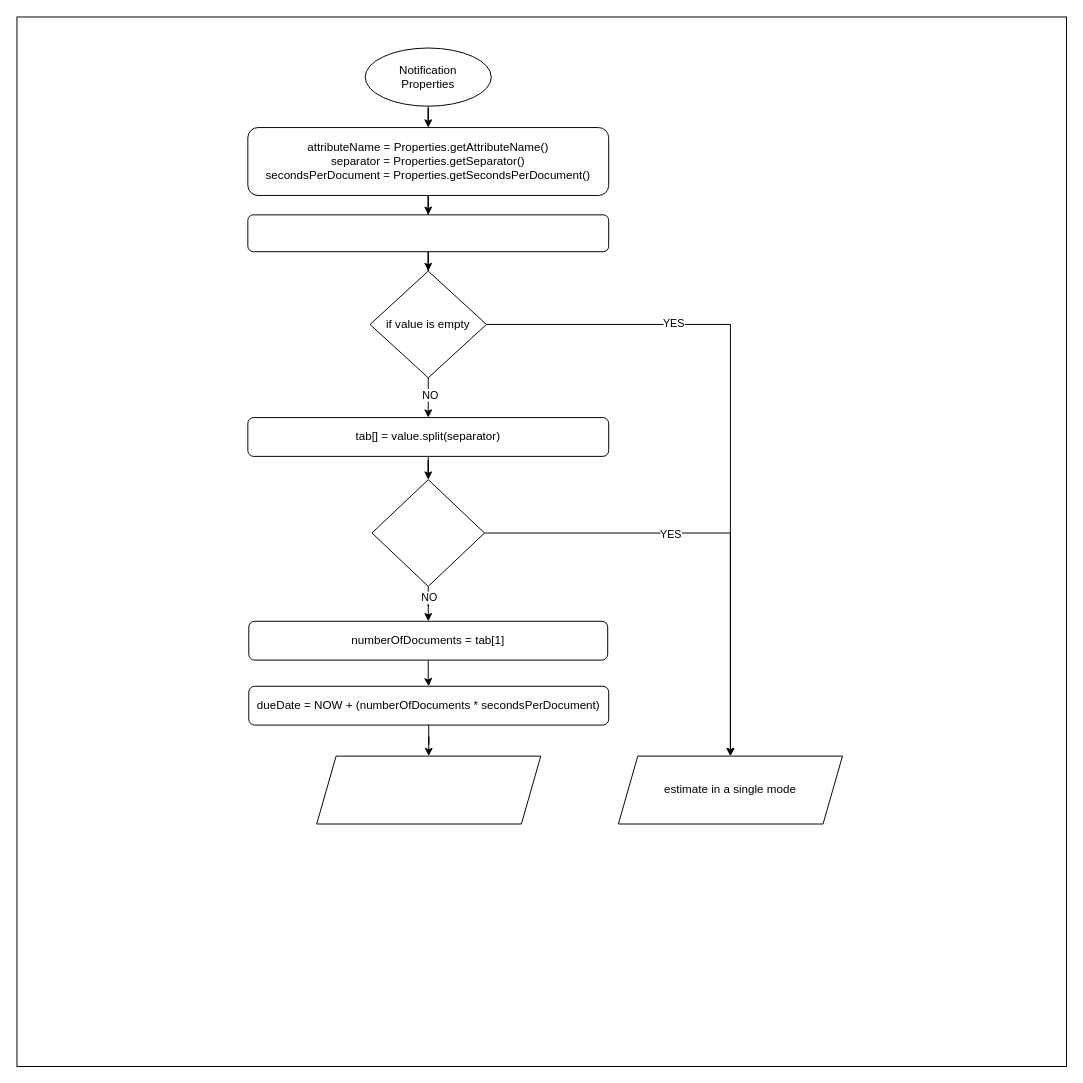
Image size: 1083x1083. Some labels were removed from this diagram. The centre of each missing label's shape, as x and y in pixels:
"if tab.length < 2" goes at point 428,532.
"return dueDate" goes at point 428,789.
"value = Notification.getValue(attributeName)" goes at point 428,233.
